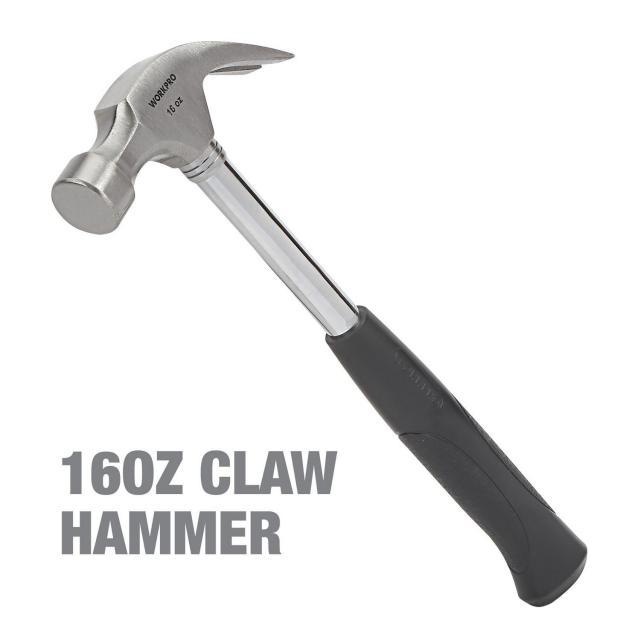hammer: (46, 35, 590, 613)
